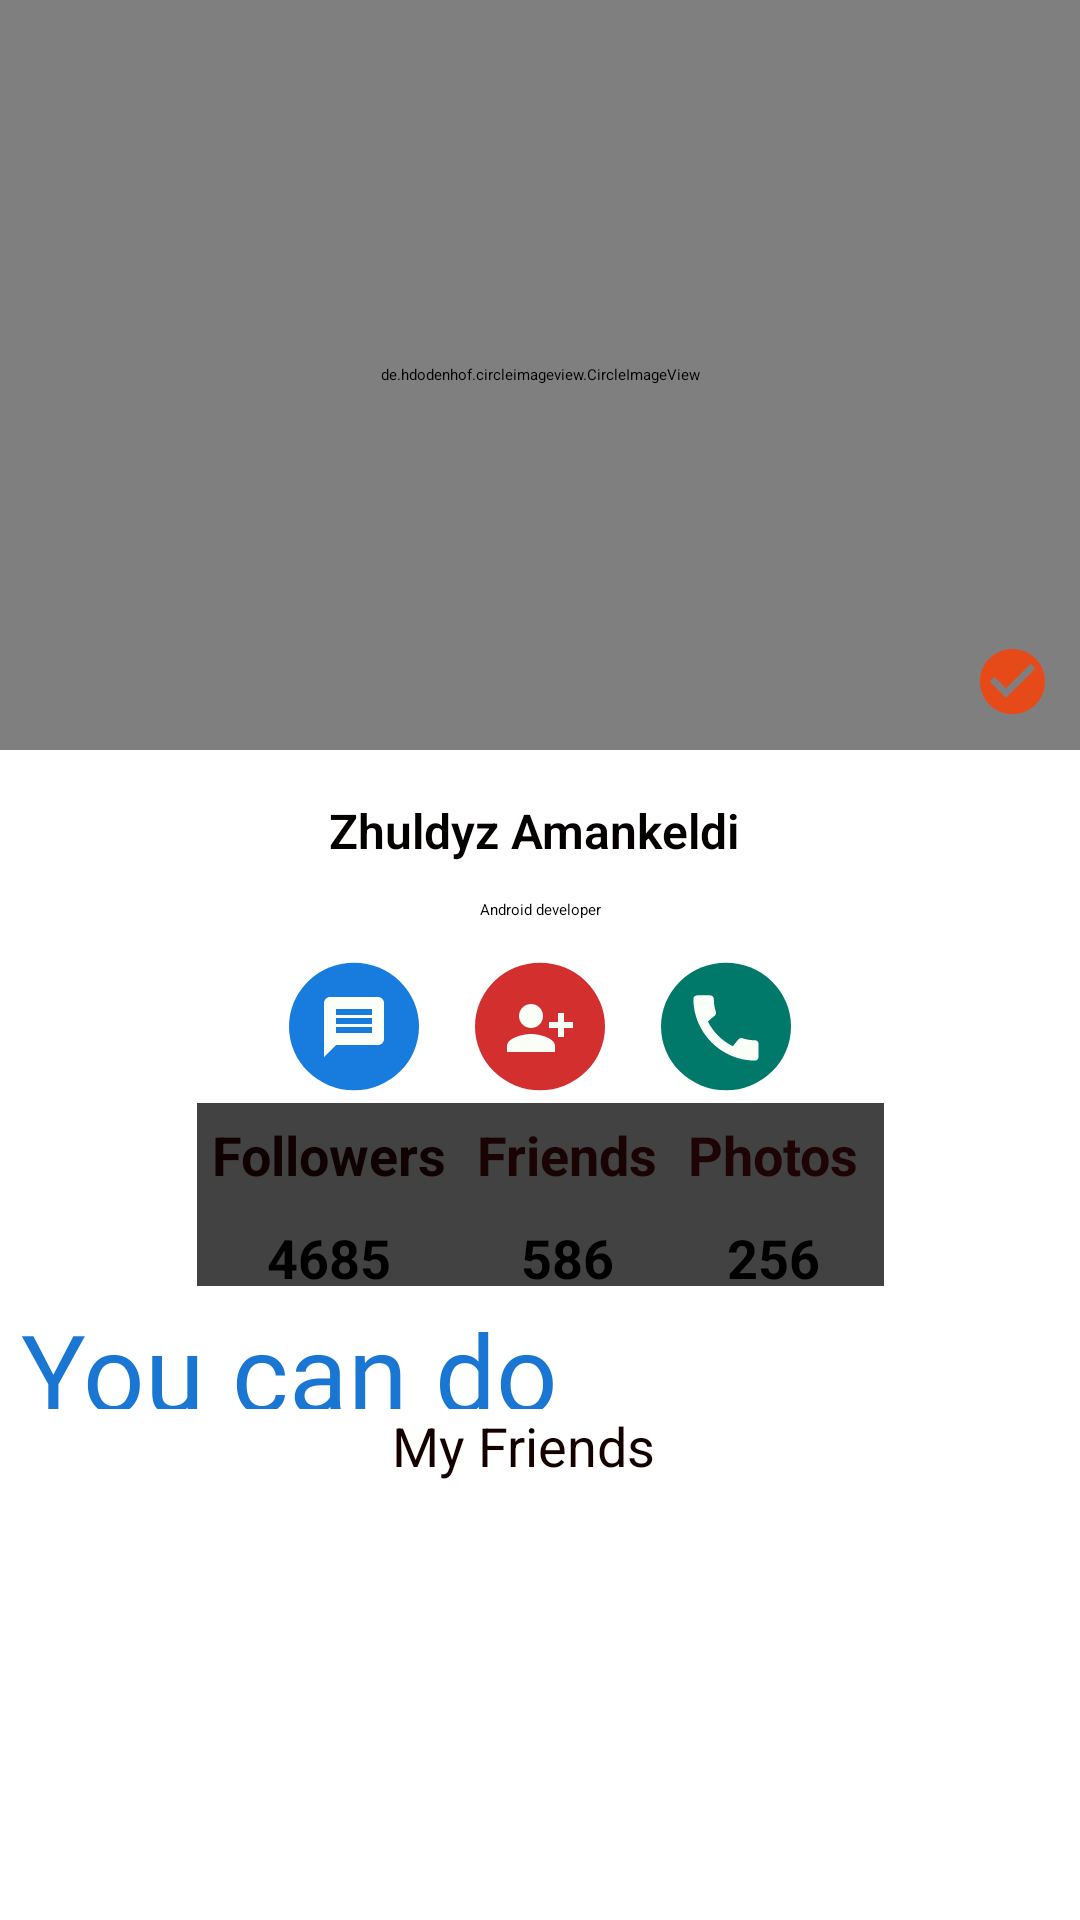

Icon bounding boxes for this 1080px x 1920px phone screenshot, format box(x1, y1, x2, y2):
checked: box(980, 649, 1045, 714)
